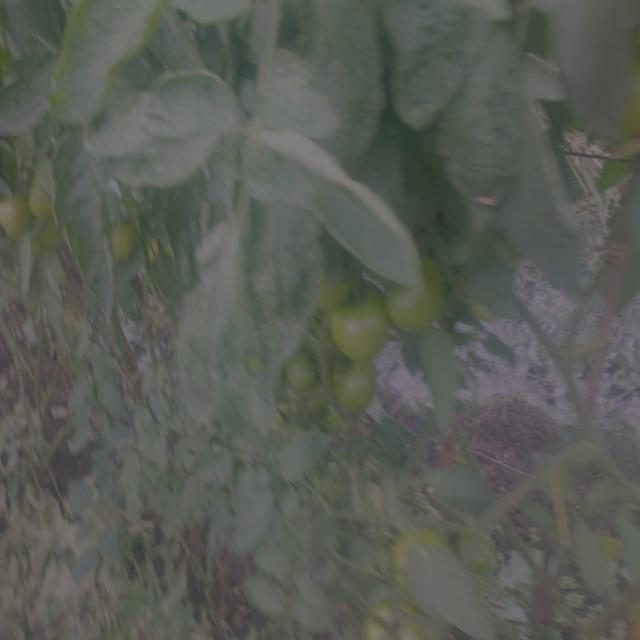tomato: (388, 264, 438, 338), (390, 526, 446, 583), (331, 308, 391, 361), (333, 360, 376, 421), (363, 602, 422, 638), (460, 529, 506, 569), (288, 352, 320, 395), (1, 197, 35, 237), (110, 223, 139, 269), (314, 456, 342, 498), (312, 270, 352, 299), (35, 189, 62, 225)
